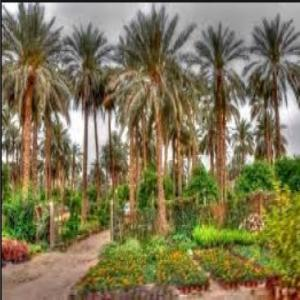palm tree: (112, 2, 197, 232), (1, 1, 65, 200), (192, 21, 249, 212), (60, 21, 110, 224), (244, 11, 299, 161), (231, 116, 253, 165)
